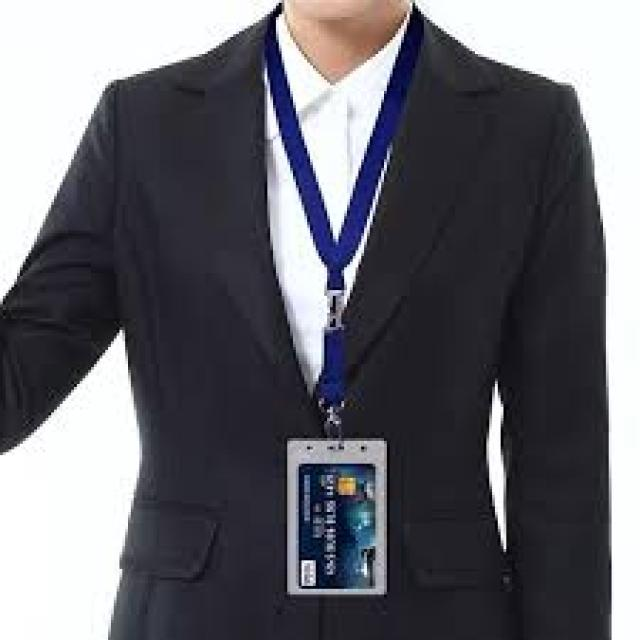id_card: (252, 25, 420, 607)
